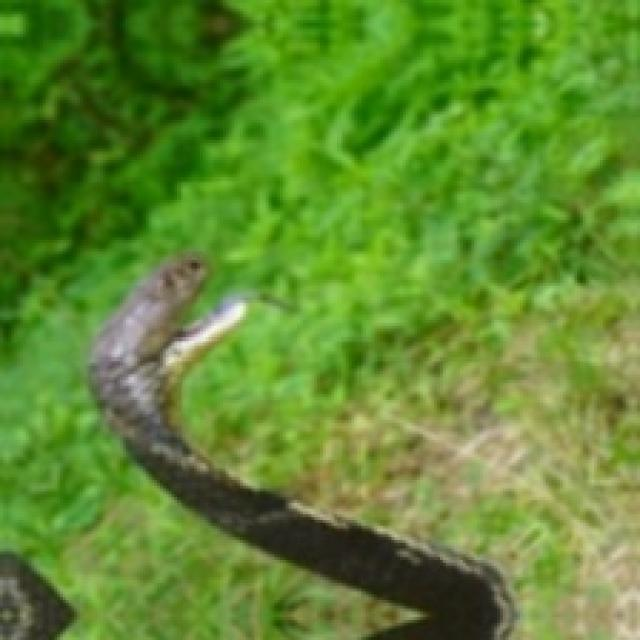king cobra: (89, 254, 511, 637)
